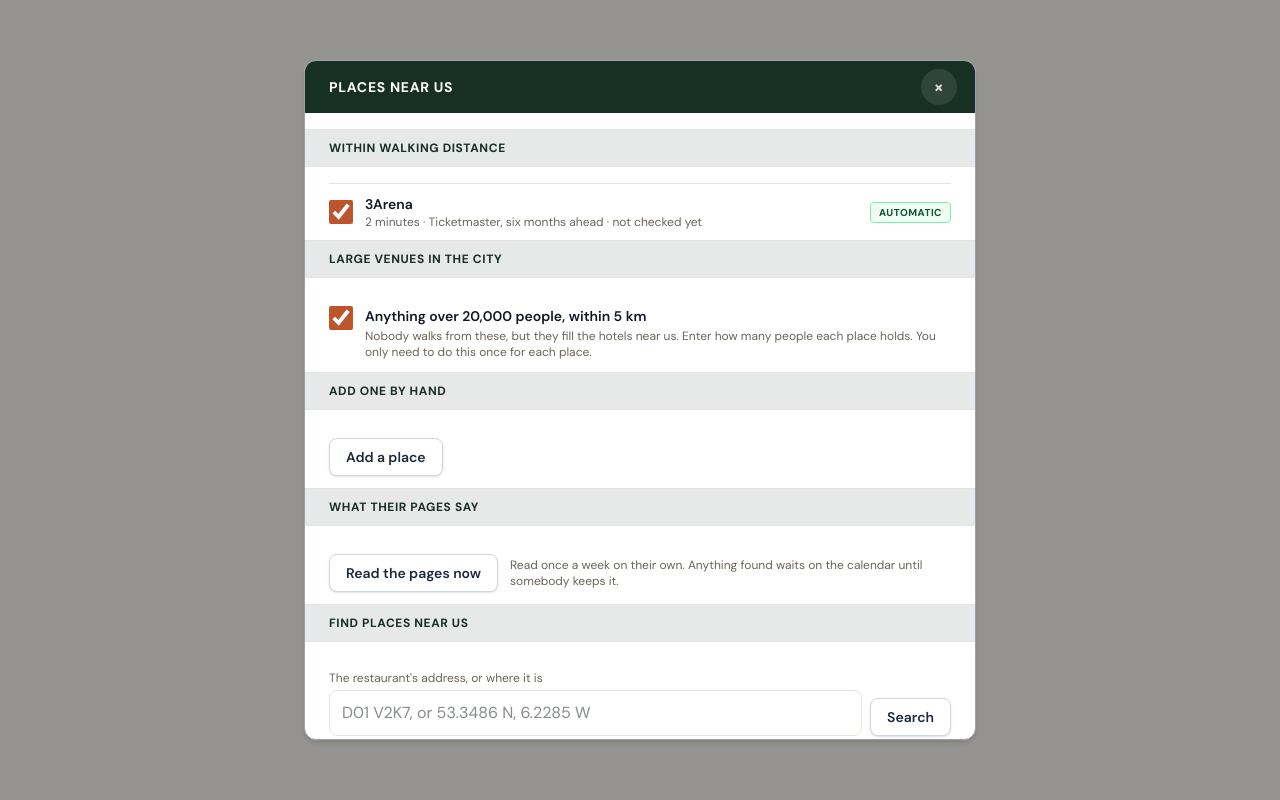
Test: watching a venue from the search › says so when the place it fills in is not on this list
This screenshot has width=1280, height=800.
Type "53.3478, -6.2285" into the field labelled "The restaurant's address, or where it is" at (596, 713), box [329,690,862,736]
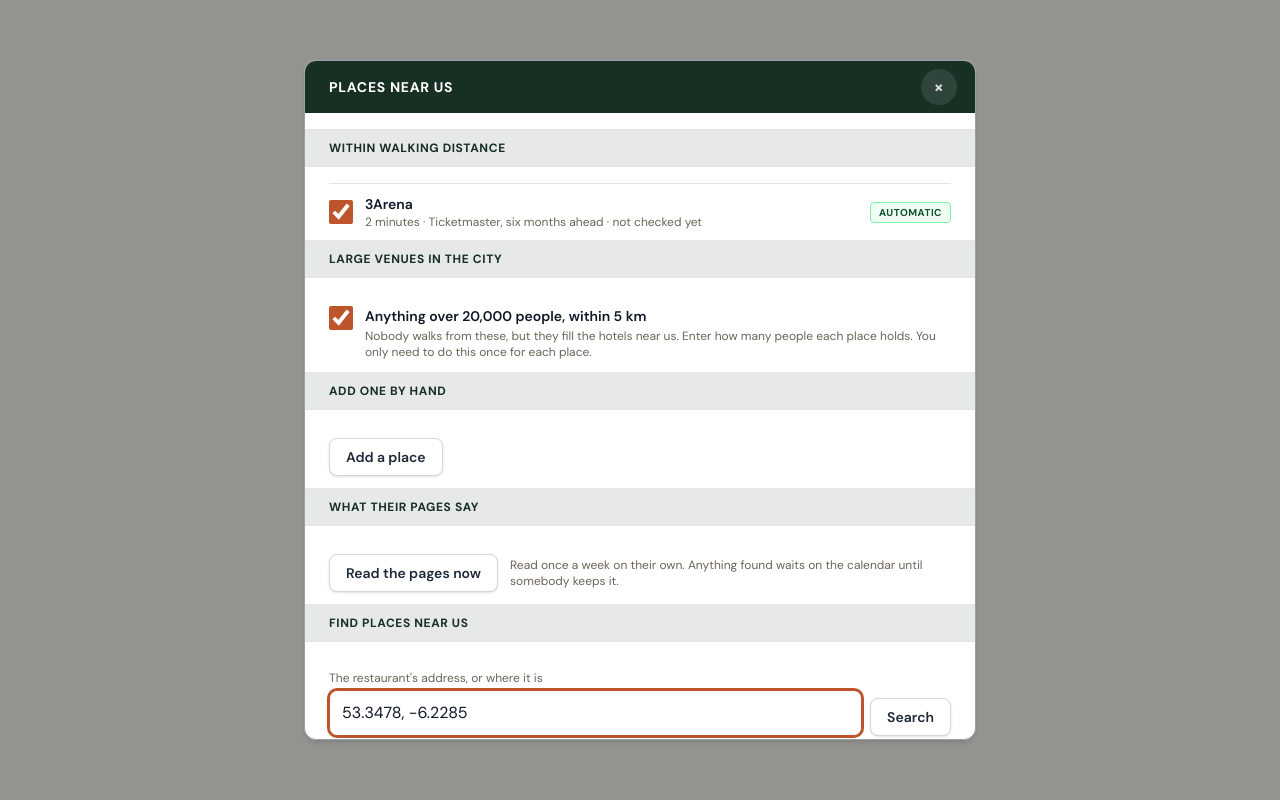
Click the button "Search" at (911, 717), box [870,698,951,736]
(page scrolled)
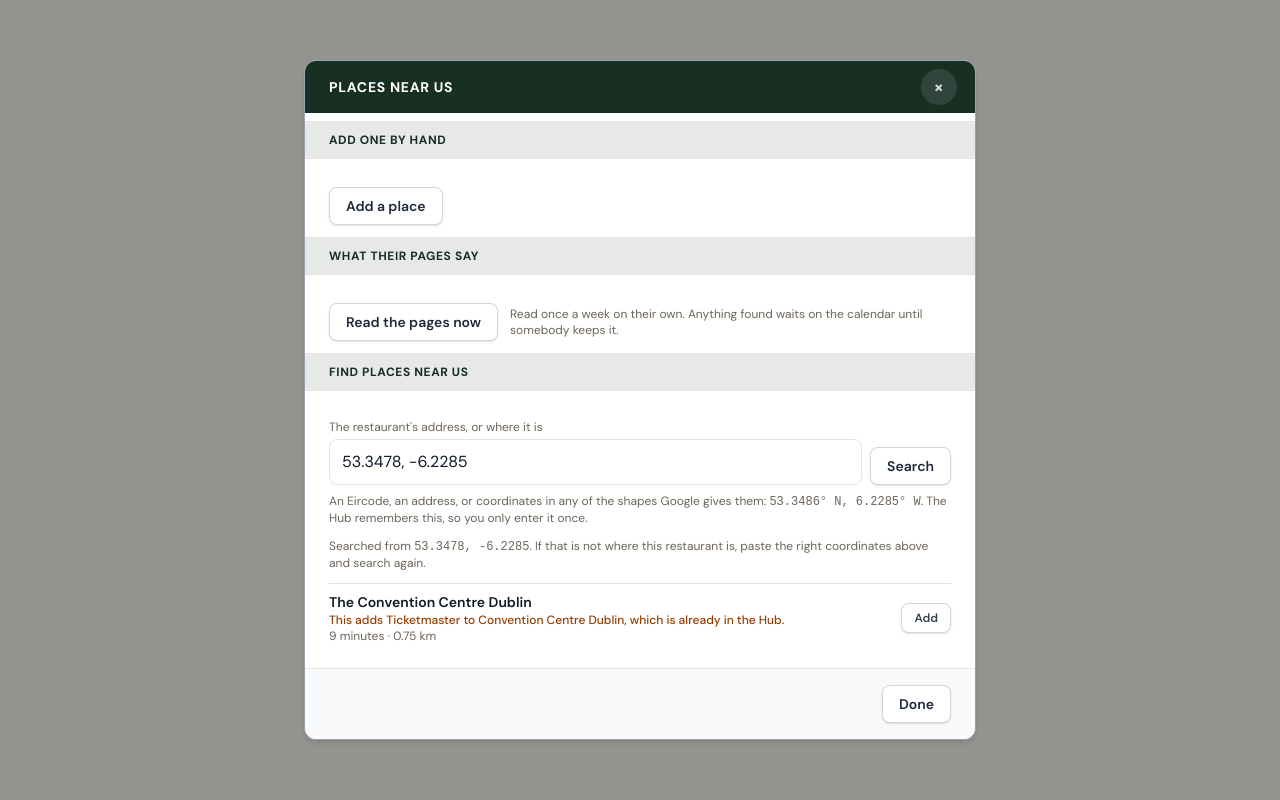
Check: the text "This adds Ticketmaster to Convention Centre Dublin, which is already in the Hub." is shown, box [329,612,784,628]
